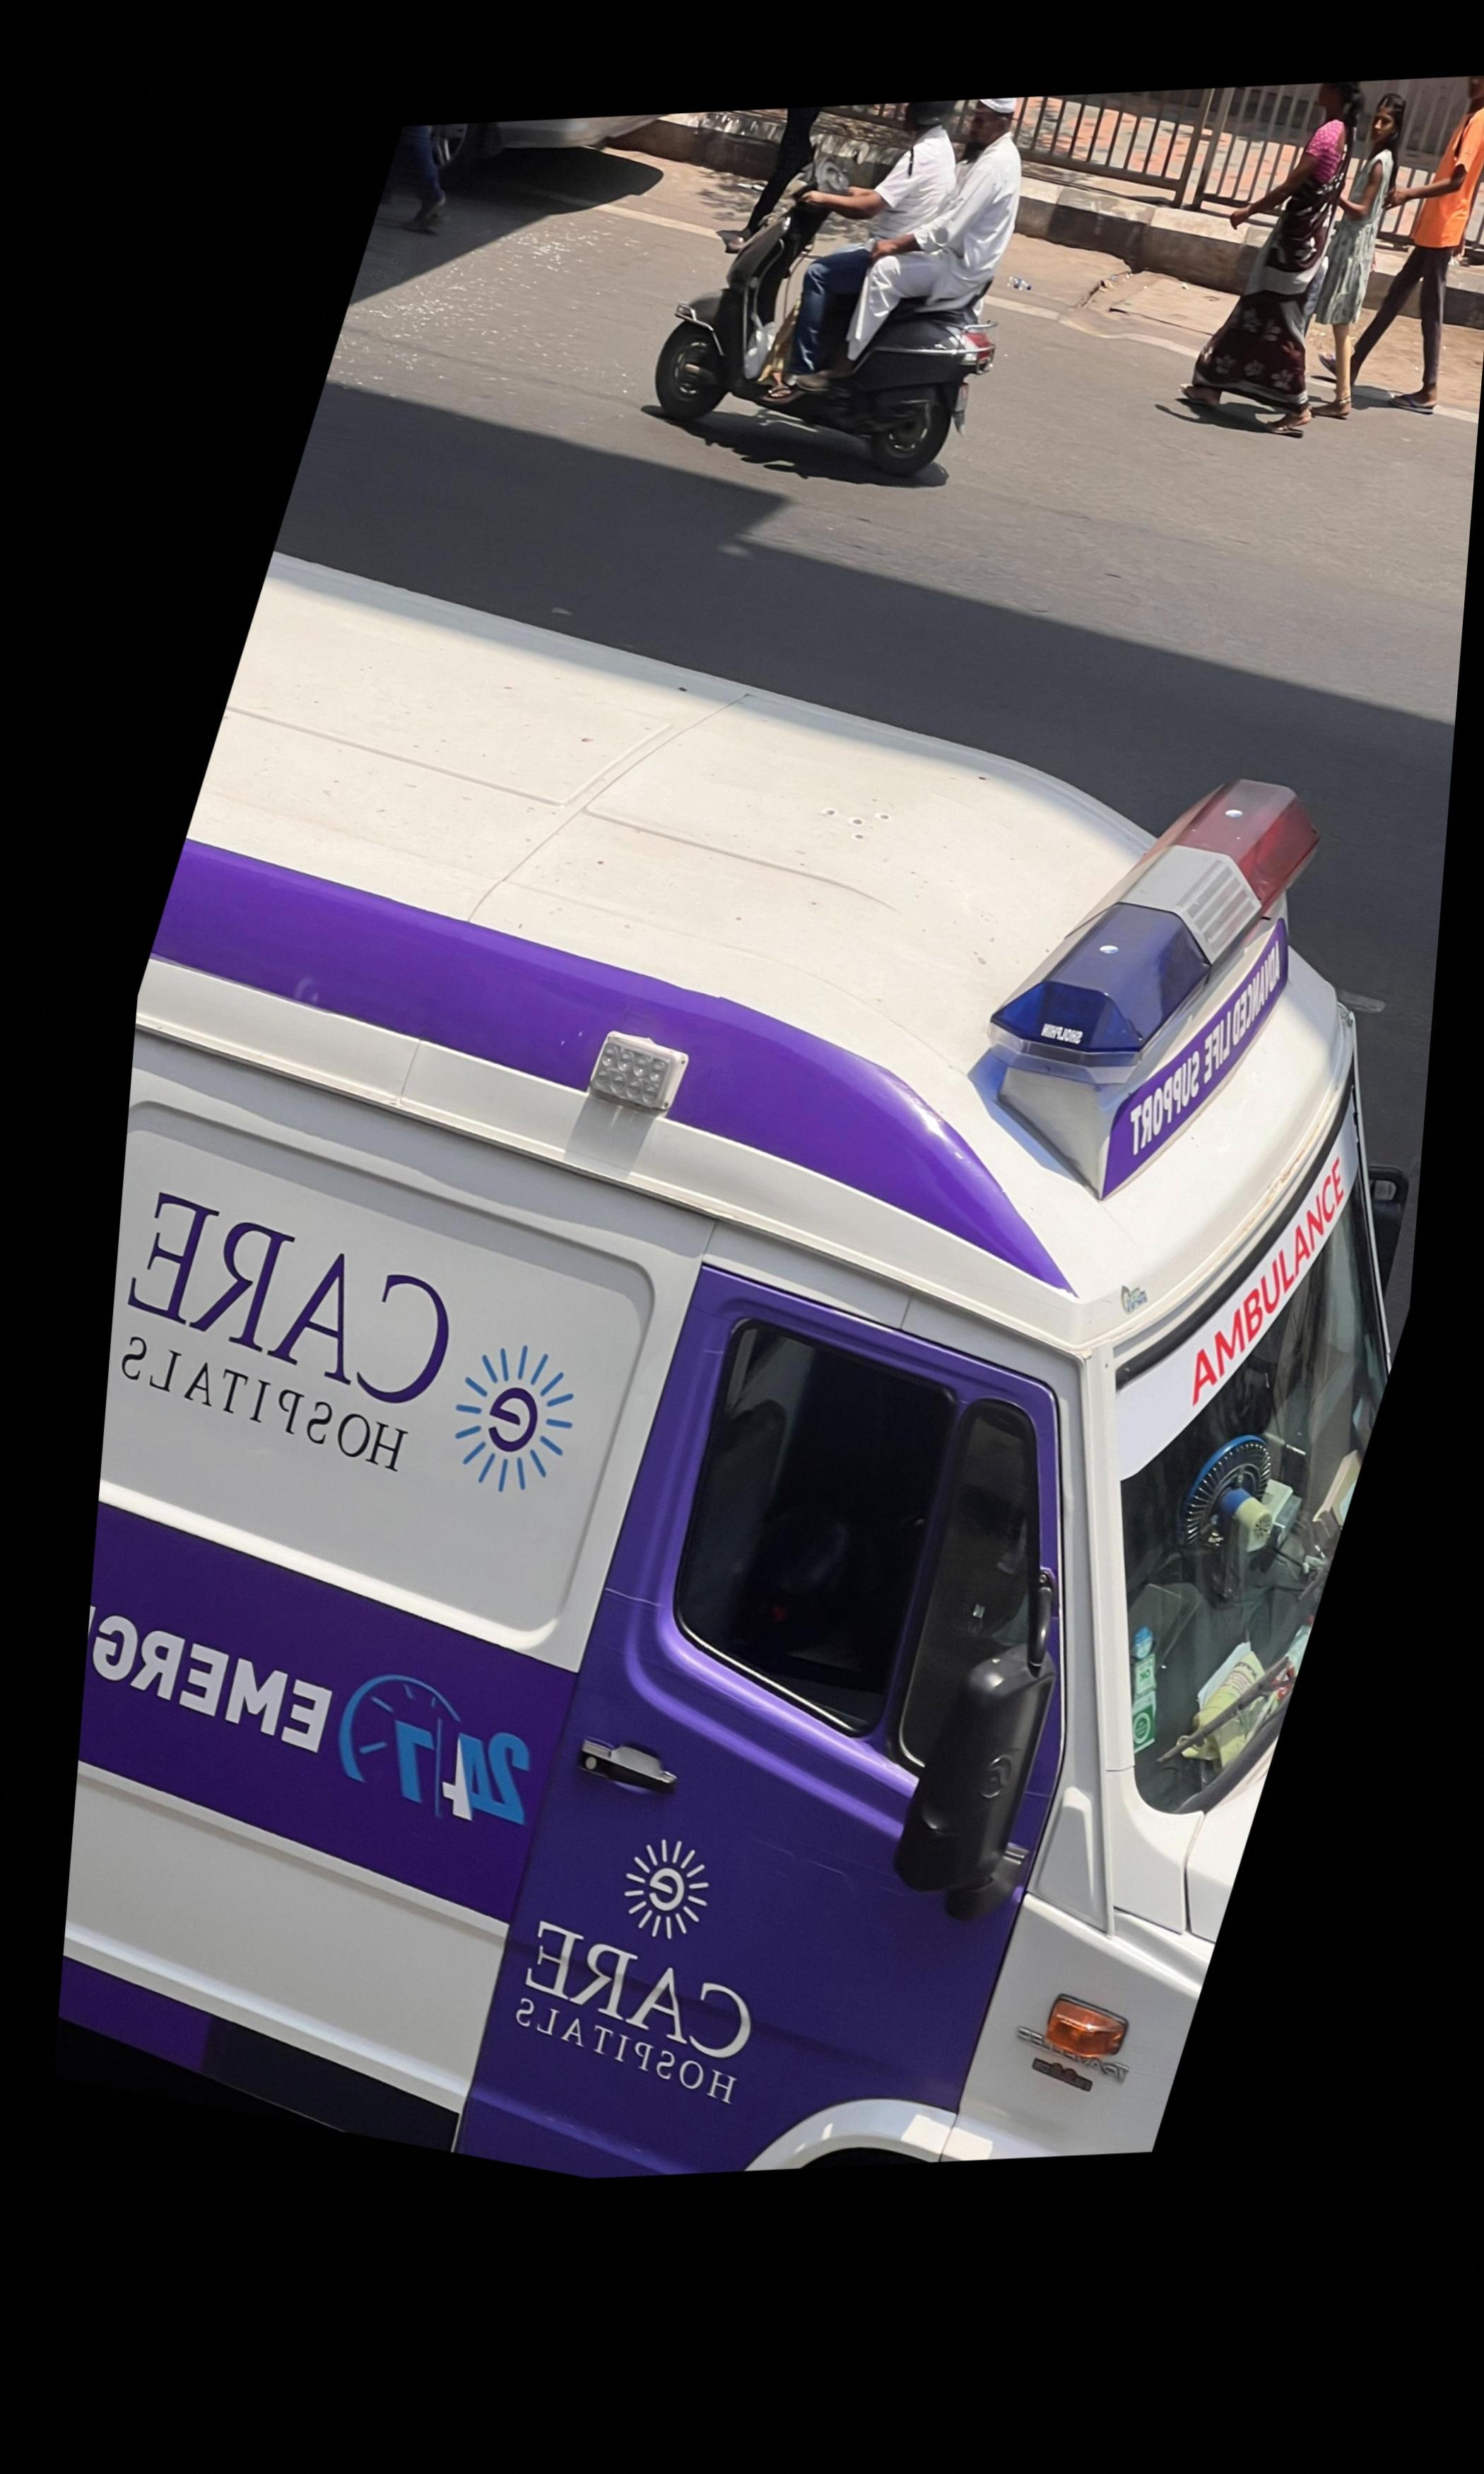ambulance: (60, 385, 1385, 2191)
